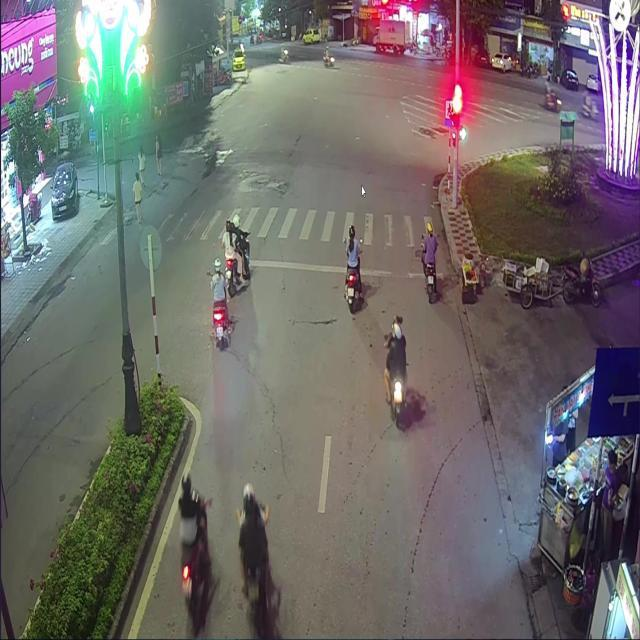motobike: (180, 498, 211, 636), (241, 575, 272, 638), (225, 229, 250, 296), (210, 303, 231, 349), (343, 270, 362, 311), (389, 377, 405, 423), (424, 265, 436, 305)
red_light: (452, 97, 459, 127)
stop_line: (231, 258, 442, 280)
